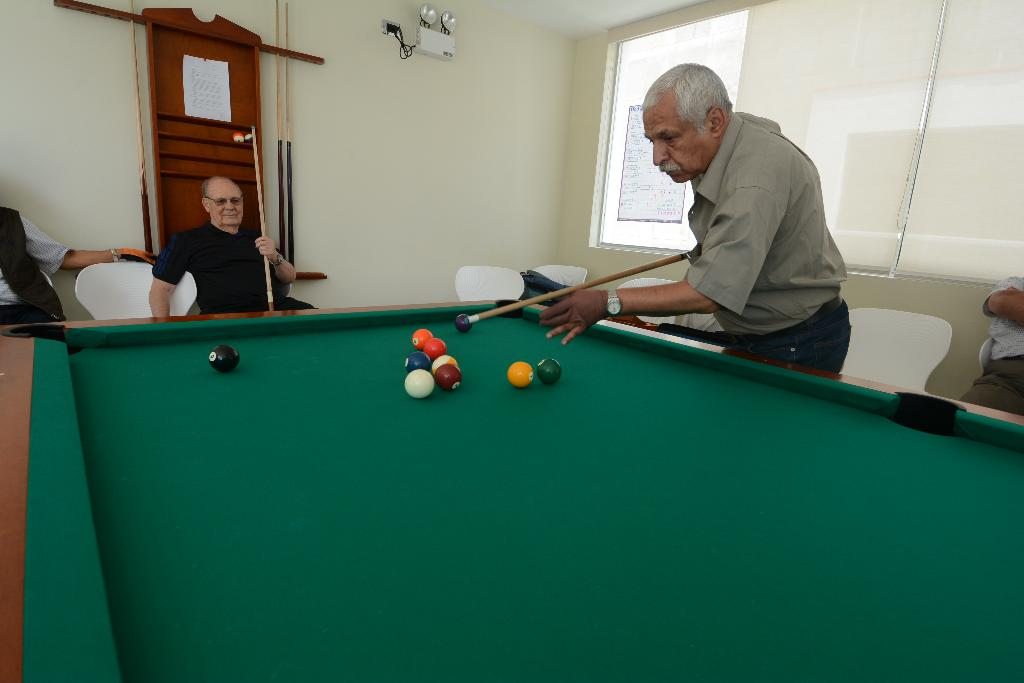Ball: (404, 368, 437, 399), (209, 346, 241, 369), (536, 357, 561, 386), (507, 362, 532, 386), (440, 362, 461, 390), (426, 336, 447, 357), (433, 353, 456, 372), (413, 332, 428, 348), (457, 316, 473, 331), (406, 355, 427, 366)
